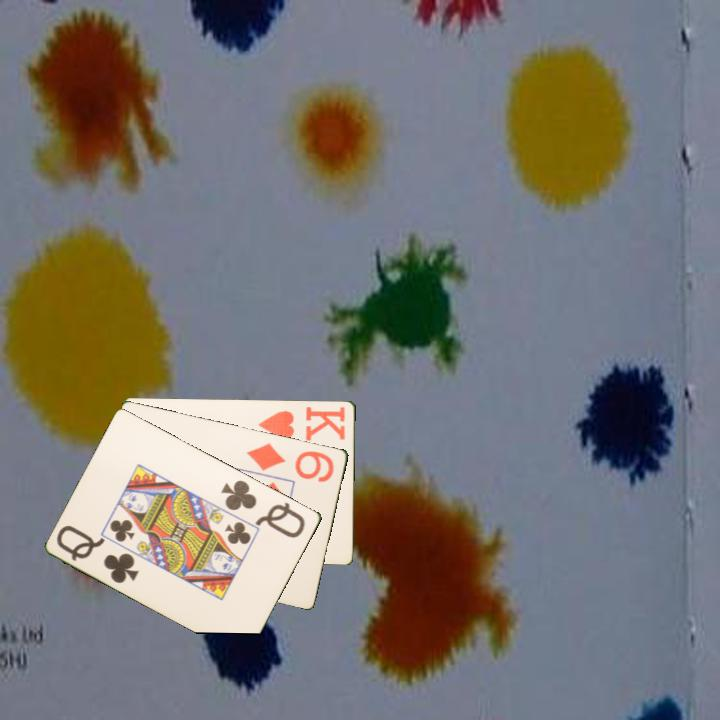6d: (243, 439, 337, 485)
Kh: (255, 403, 348, 442)
Qc: (218, 476, 309, 541), (53, 521, 142, 586)
